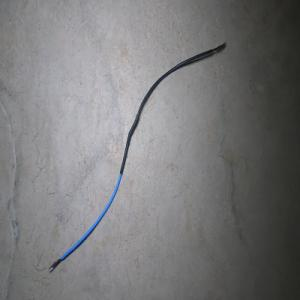Wire: (47, 42, 226, 273)
